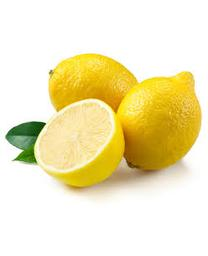lemon: (117, 73, 200, 172), (34, 99, 125, 187), (47, 55, 140, 113)
